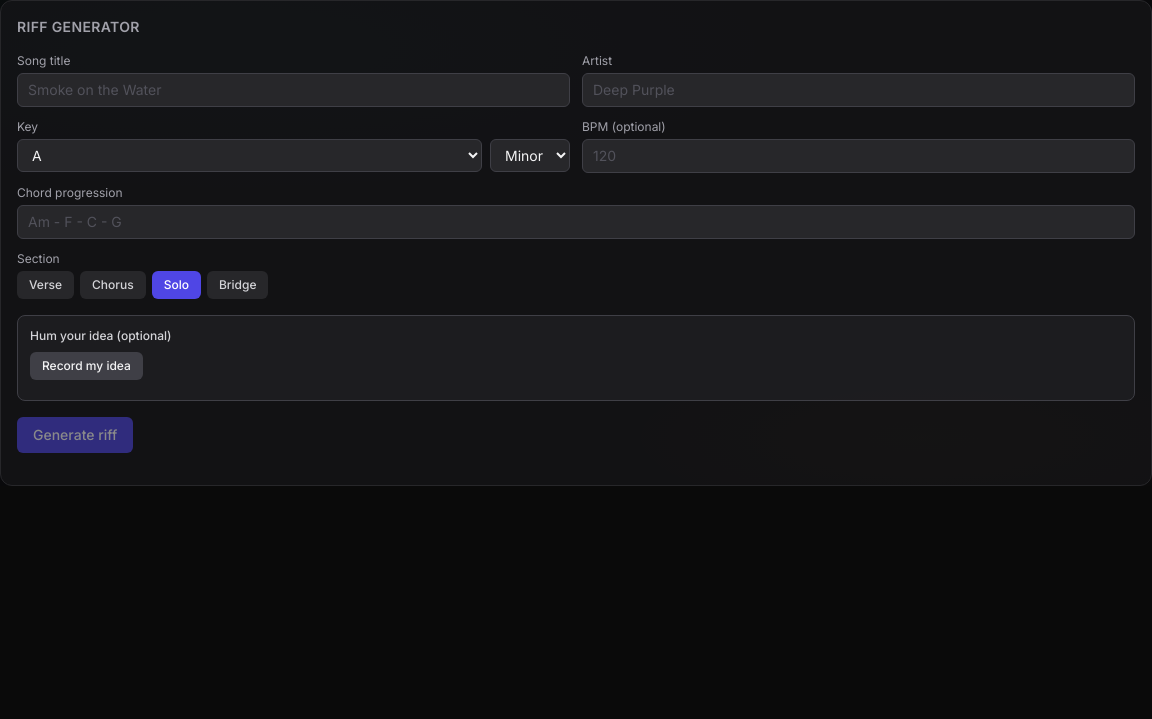
Test: RiffGenerator › shows saved riffs in the history panel after toggling it open
Step 1. Type "My Song" into the field with placeholder "Smoke on the Water" → (294, 90), box [17,73,570,107]
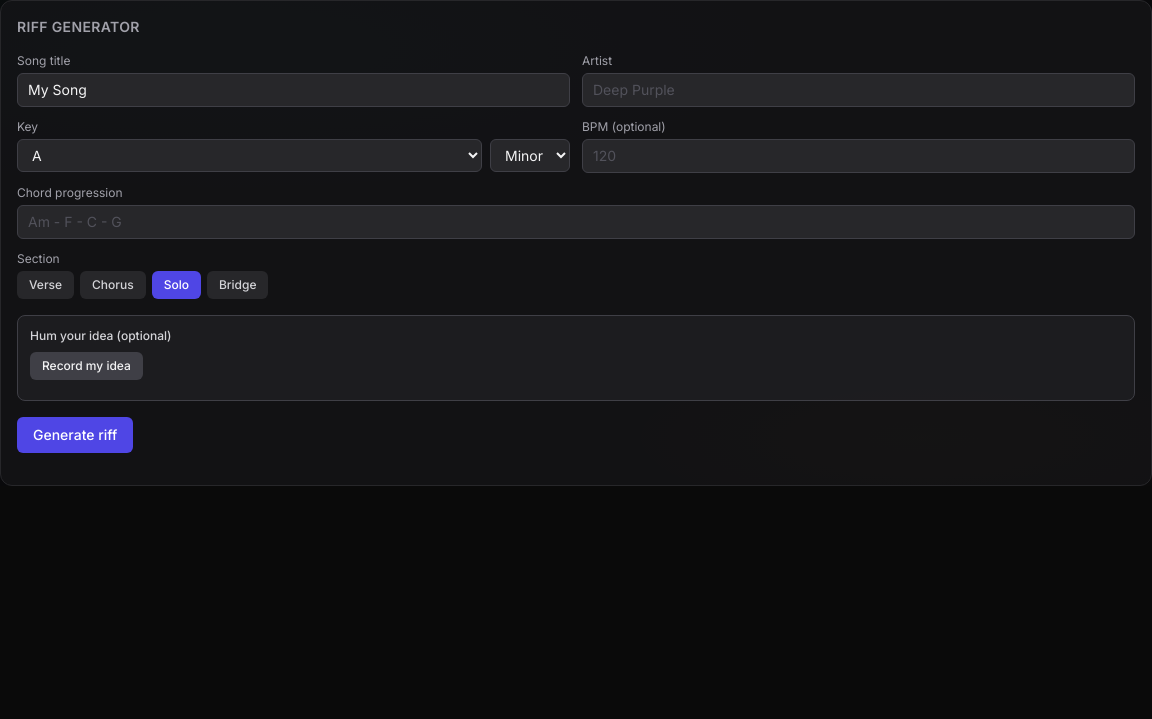
Step 2. Click the button "Generate riff" → click(75, 435), box [17,417,133,453]
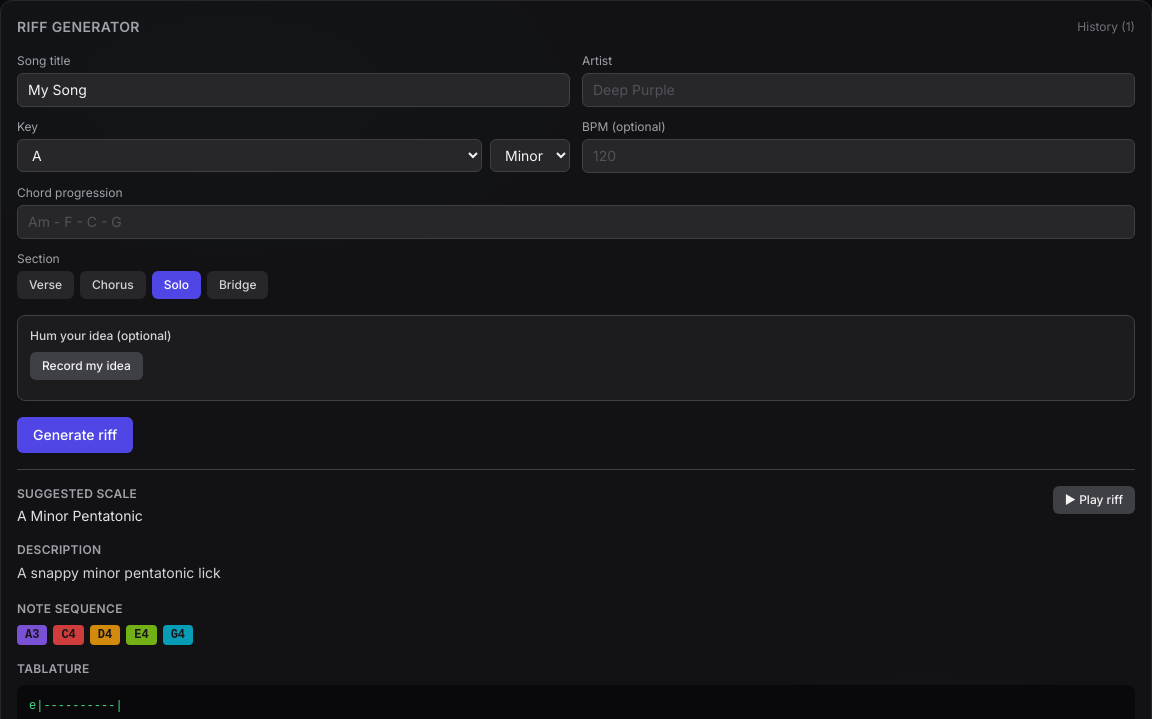
Expected: the button "History (1)" is shown
Step 3. Click the button "History (1)" → click(1106, 27), box [1077,19,1135,35]
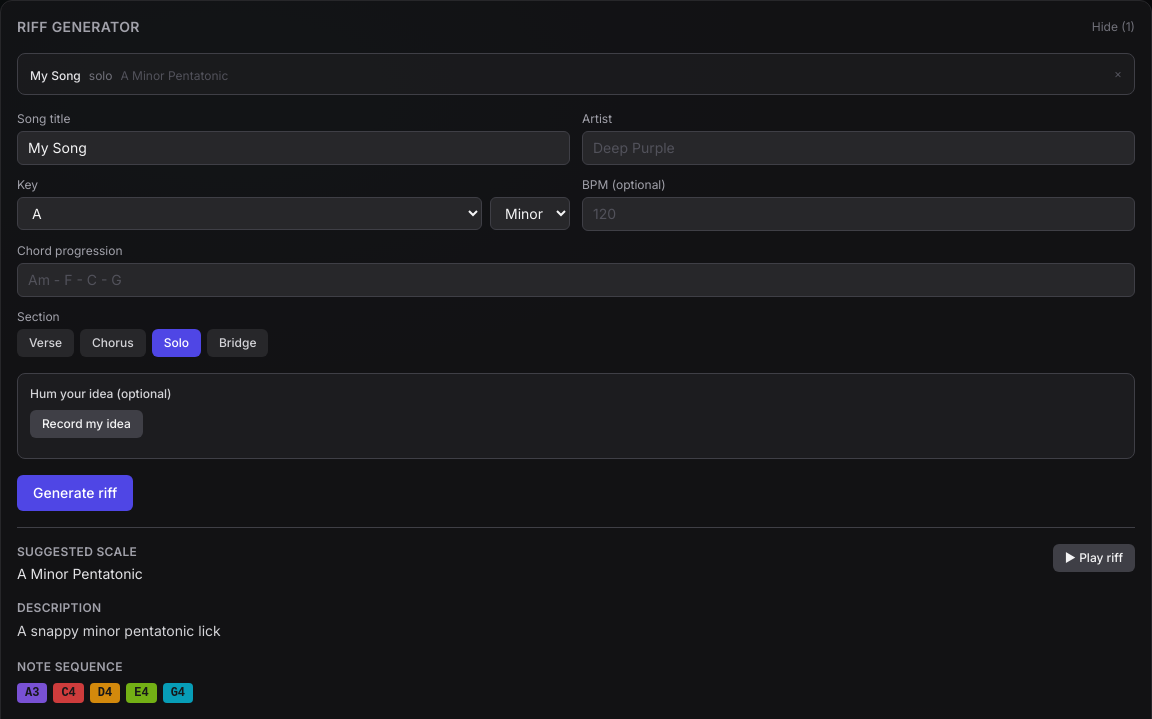
Expected: the text "My Song" is shown, [30,68,81,83]
